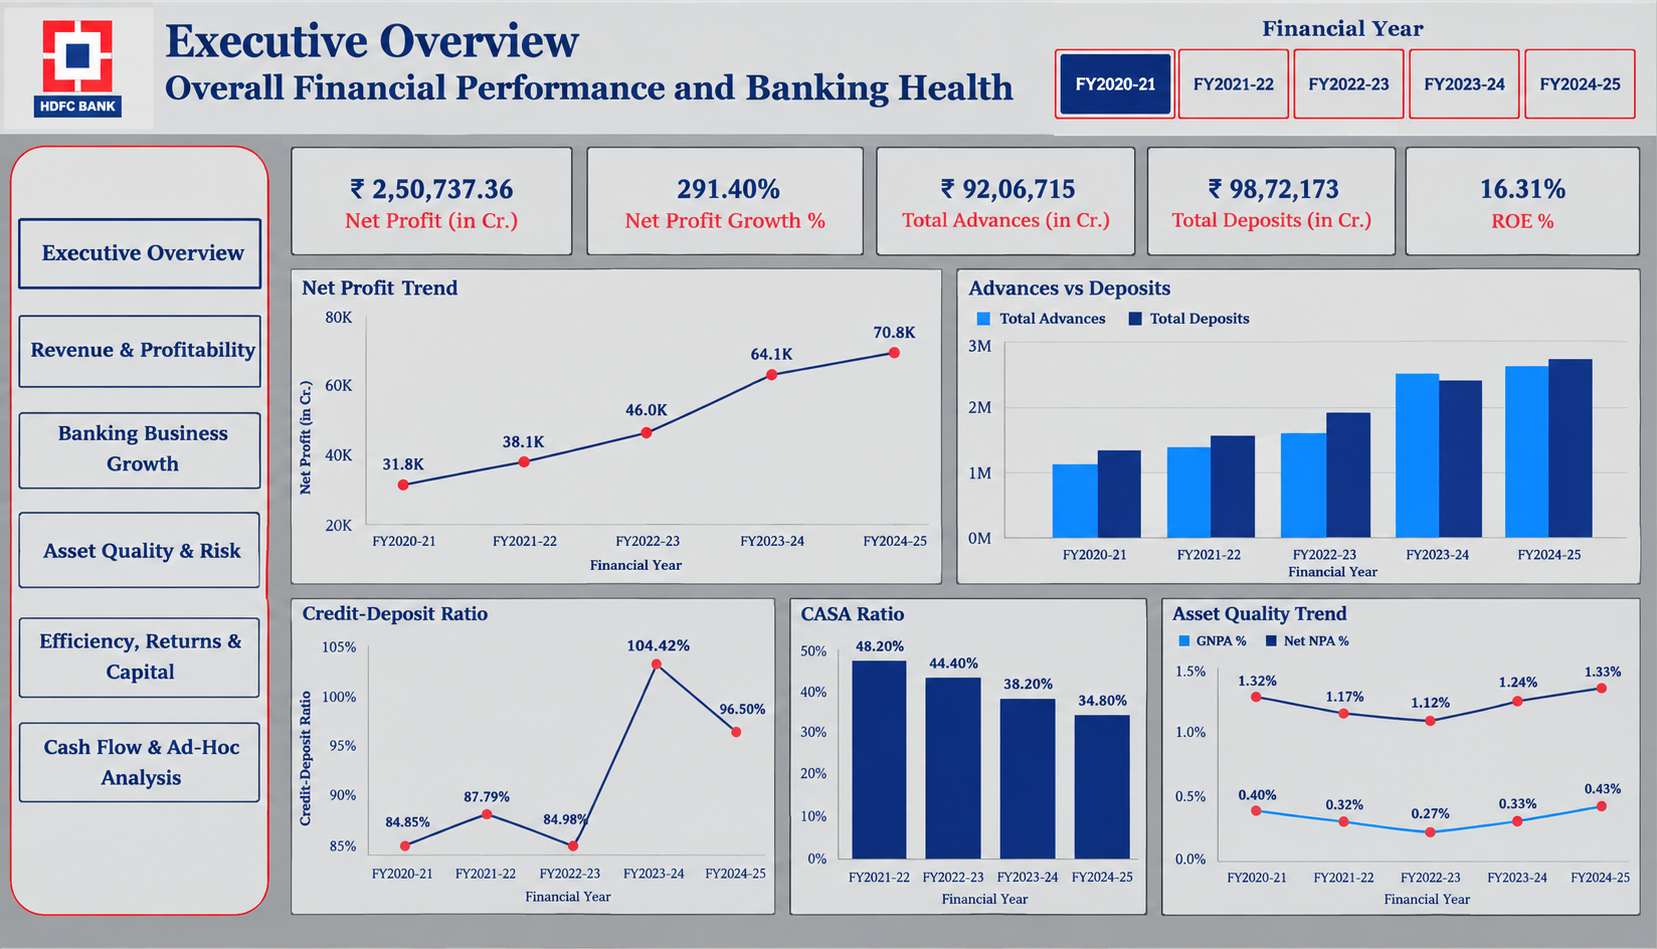

What the dashboard file says about the page in this screenshot:
{"tool":"powerbi","page":{"name":"Executive Overview","canvas":[1920,1080],"ordinal":0},"visuals":[{"type":"advancedSlicerVisual","title":"Financial Year","fields":{"Values":["Sheet1.financial_year"]},"box":[1232.5,0,687.5,152.5],"z":0},{"type":"textbox","title":"Executive Overview","box":[205,0,1027.5,152.5],"z":1000},{"type":"image","box":[0,0,204.5,154.5],"z":2000},{"type":"shape","box":[10,170,317.5,910],"z":3000},{"type":"actionButton","box":[22,256.8,293.5,82.5],"z":4000},{"type":"actionButton","box":[22,377.9,293.5,82.5],"z":5000},{"type":"actionButton","box":[22,497.1,293.5,82.5],"z":6000},{"type":"actionButton","box":[22,623.6,293.5,82.5],"z":7000},{"type":"actionButton","box":[22,748.4,293.5,82.5],"z":8000},{"type":"actionButton","box":[22,871.3,293.5,82.5],"z":9000},{"type":"card","fields":{"Values":["Sum(Sheet1.net_profit)"]},"box":[353.2,165.5,292.5,132.4],"z":10000},{"type":"card","fields":{"Values":["HDFC_Bank_Final_Analysis.Net Profit Growth %"]},"box":[667.7,165.5,292.5,132.4],"z":11000},{"type":"card","fields":{"Values":["Sum(Sheet1.total_advances)"]},"box":[987.8,165.5,290.6,132.4],"z":12000},{"type":"card","fields":{"Values":["Sum(Sheet1.total_deposits)"]},"box":[1300.5,165.5,292.5,132.4],"z":13000},{"type":"card","fields":{"Values":["HDFC_Bank_Final_Analysis.ROE %"]},"box":[1611.3,165.5,290.6,132.4],"z":14000},{"type":"lineChart","title":"Net Profit Trend","fields":{"Category":["Sheet1.financial_year"],"Y":["Sum(Sheet1.net_profit)"]},"box":[353.3,326.7,733.3,335],"z":15000},{"type":"clusteredColumnChart","title":"Advances vs Deposits","fields":{"Category":["Sheet1.financial_year"],"Y":["Sum(Sheet1.total_advances)","Sum(Sheet1.total_deposits)"]},"box":[1131.7,330.2,768.6,332],"z":16000},{"type":"lineChart","title":"Credit–Deposit Ratio","fields":{"Category":["Sheet1.financial_year"],"Y":["HDFC_Bank_Final_Analysis.Credit Deposit Ratio %"]},"box":[353.2,676.9,553.7,388.1],"z":17000},{"type":"lineChart","title":"Asset Quality Trend","fields":{"Category":["Sheet1.financial_year"],"Y":["HDFC_Bank_Final_Analysis.GNPA %","HDFC_Bank_Final_Analysis.Net NPA %"]},"box":[1348.3,676.9,553.7,388.1],"z":18000},{"type":"columnChart","title":"CASA Ratio","fields":{"Category":["Sheet1.financial_year"],"Y":["HDFC_Bank_Final_Analysis.CASA Ratio %"]},"box":[928.9,676.9,406.5,388.1],"z":19000}]}

Visuals, with their boxes in screenshot pixels (x1, y1, x2, y2), scaled from the page's 1920x1080 canvas onto the 1657x949 screenshot:
"Financial Year" advancedSlicerVisual: select_region(1064, 0, 1656, 134)
"Executive Overview" textbox: select_region(177, 0, 1064, 134)
image: select_region(0, 0, 176, 136)
shape: select_region(9, 149, 283, 948)
actionButton: select_region(19, 226, 272, 298)
actionButton: select_region(19, 332, 272, 405)
actionButton: select_region(19, 437, 272, 509)
actionButton: select_region(19, 548, 272, 620)
actionButton: select_region(19, 658, 272, 730)
actionButton: select_region(19, 766, 272, 838)
card - Sum(Sheet1.net_profit): select_region(305, 145, 557, 262)
card - HDFC_Bank_Final_Analysis.Net Profit Growth %: select_region(576, 145, 829, 262)
card - Sum(Sheet1.total_advances): select_region(852, 145, 1103, 262)
card - Sum(Sheet1.total_deposits): select_region(1122, 145, 1375, 262)
card - HDFC_Bank_Final_Analysis.ROE %: select_region(1391, 145, 1641, 262)
"Net Profit Trend" lineChart: select_region(305, 287, 938, 581)
"Advances vs Deposits" clusteredColumnChart: select_region(977, 290, 1640, 582)
"Credit–Deposit Ratio" lineChart: select_region(305, 595, 783, 936)
"Asset Quality Trend" lineChart: select_region(1164, 595, 1641, 936)
"CASA Ratio" columnChart: select_region(802, 595, 1152, 936)
